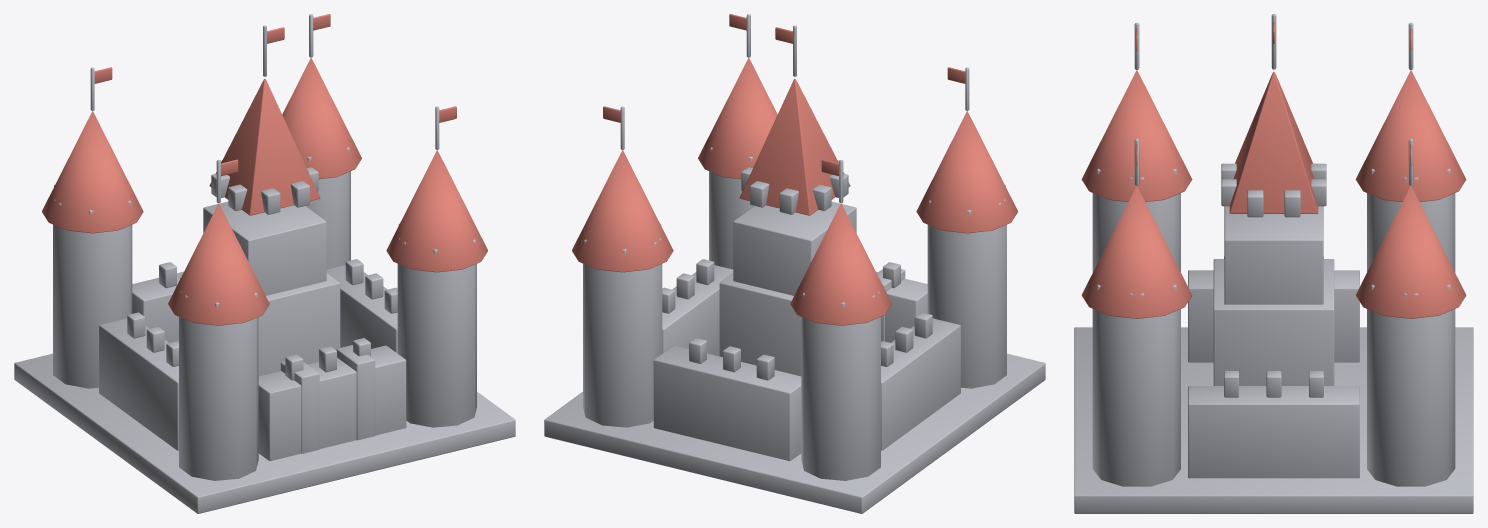
The model's file is castle_t3.glb.
The picture shows the model from 3 angles, left to right: view 1: azimuth 30°, elevation 25°; view 2: azimuth 150°, elevation 25°; view 3: azimuth 270°, elevation 25°; orthographic projection. The views are drawn at different scales.
Visible parts, largest first — view 1: stone, roof; view 2: stone, roof; view 3: stone, roof.
Part boxes in pixels (box(x1,y1,x2,y2)): stone: box(14, 14, 515, 513); roof: box(42, 14, 487, 325); stone: box(544, 14, 1045, 513); roof: box(572, 14, 1017, 325); stone: box(1074, 14, 1473, 513); roof: box(1081, 21, 1466, 318).
Bounding box in the file's own units: 3.44 × 3.95 × 3.44.
